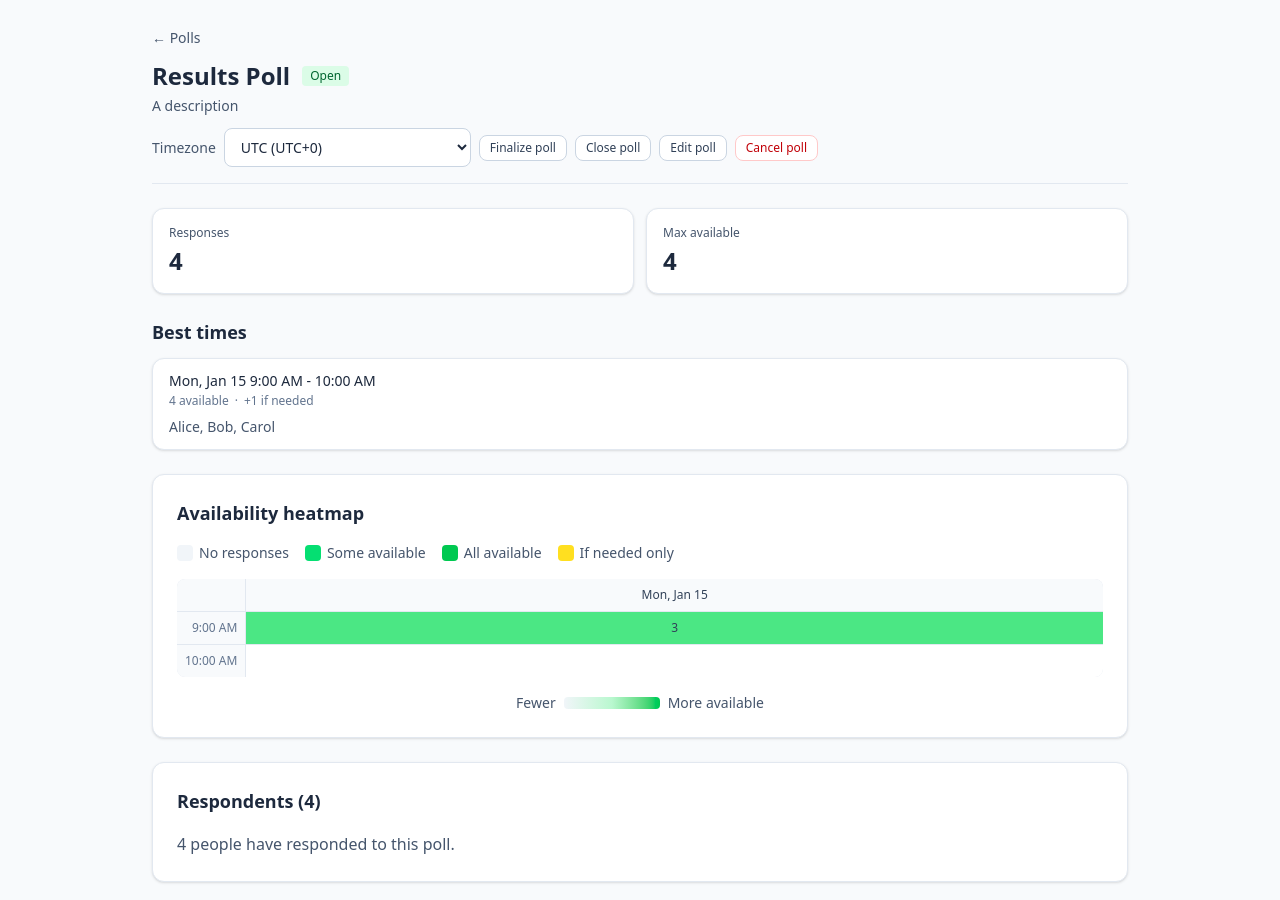
Test: PollResults - finalize modal › lists best slots as radio options and disables finalize until one is chosen
Check: the link "Edit poll" is shown, box [659,134,727,160]
Click the button "Finalize poll".
click(523, 148)  # box [479,134,567,160]
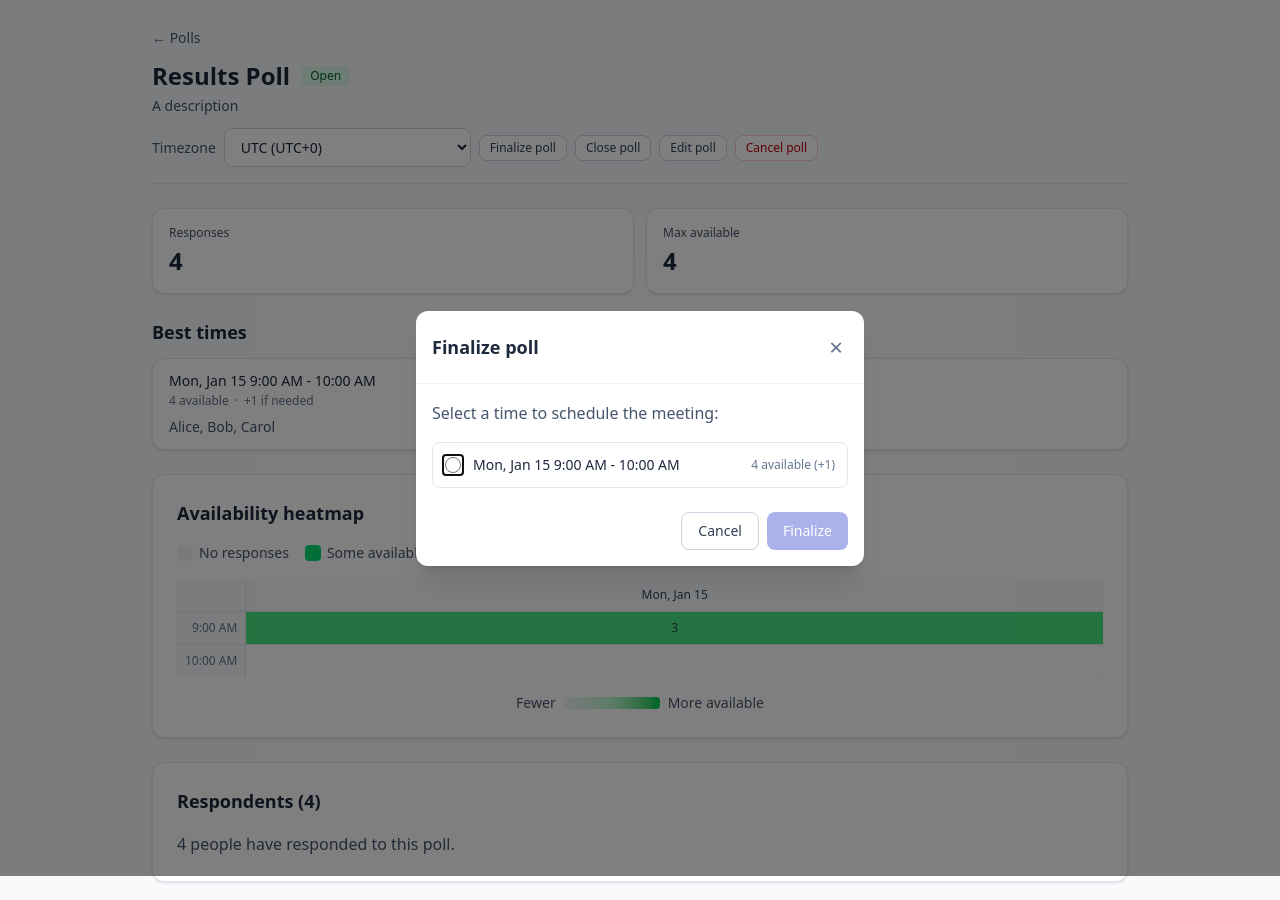
Check: the text "Select a time to schedule the meeting:" is shown, box [432,402,718,424]
Check: the button "Finalize" is disabled, box [767,512,848,550]
Click the radio button.
click(453, 464)  # box [445,456,461,472]
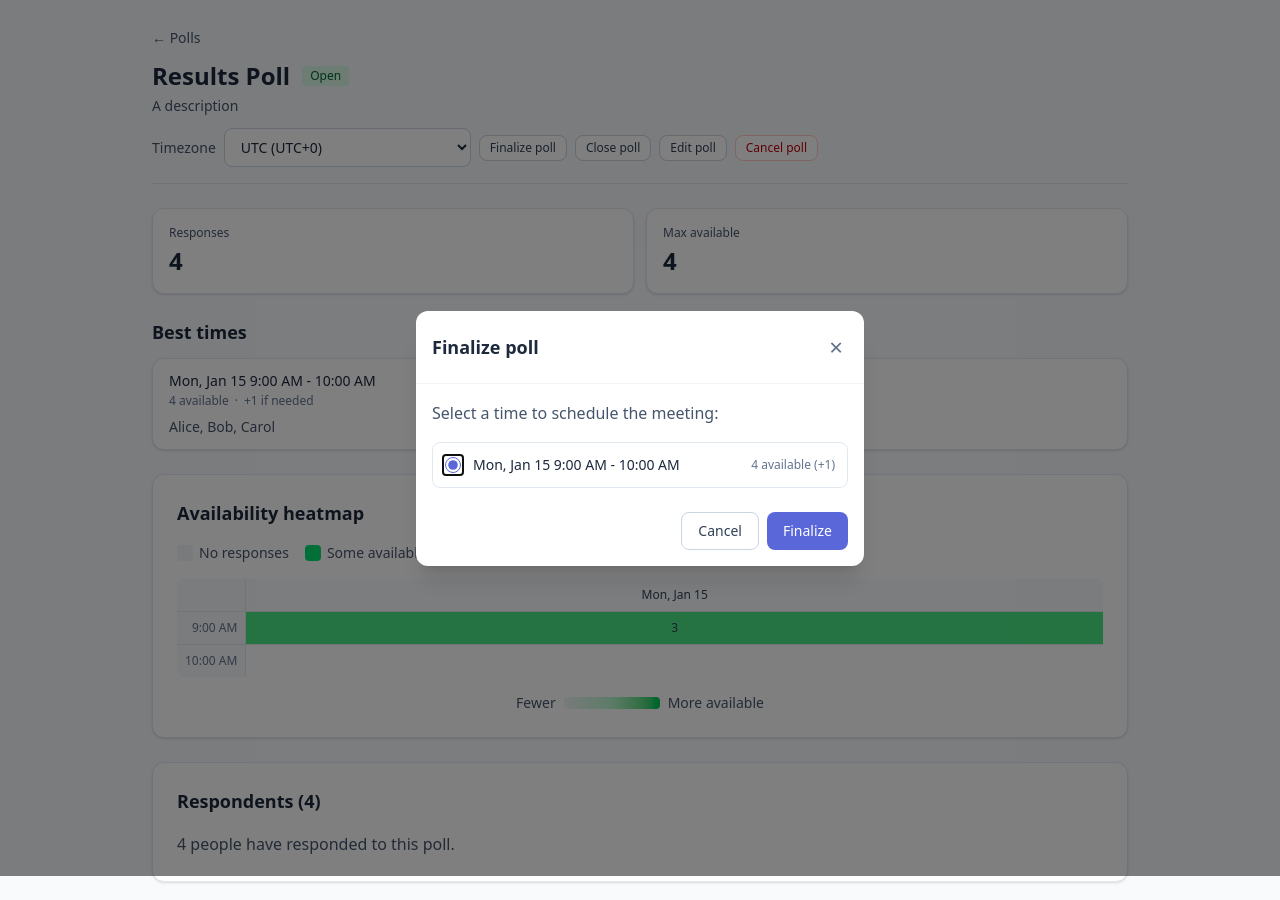
Check: the button "Finalize" is enabled, box [767,512,848,550]
